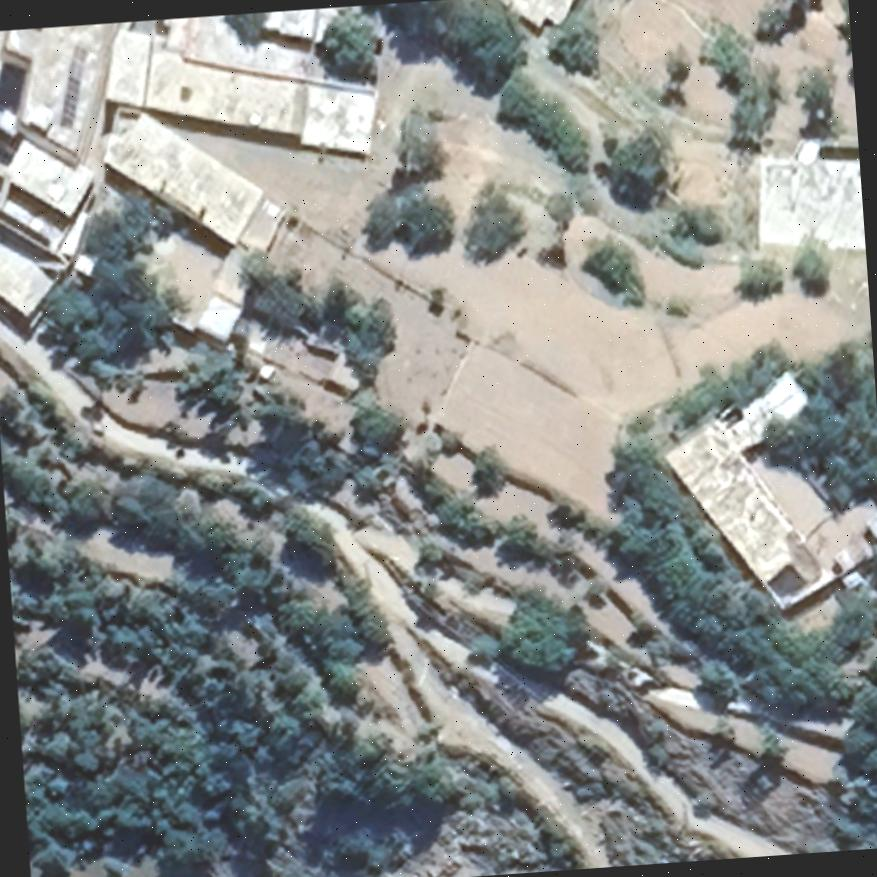Solarpanel: (48, 39, 94, 134)
